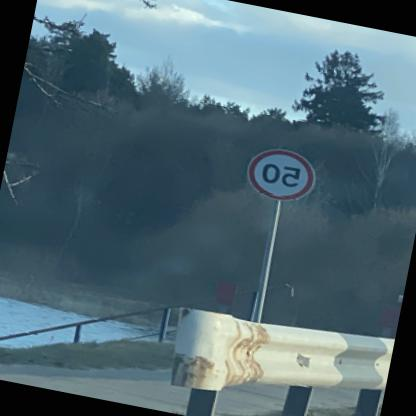speedlimit: (244, 142, 322, 206)
